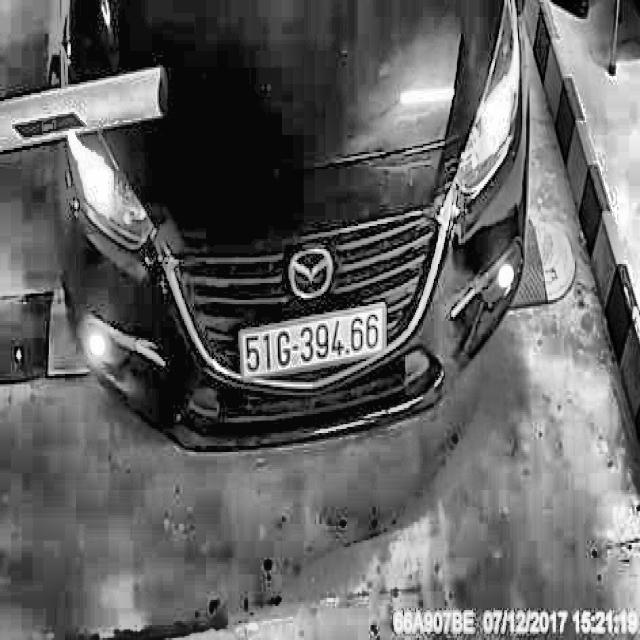plate: (238, 296, 390, 387)
